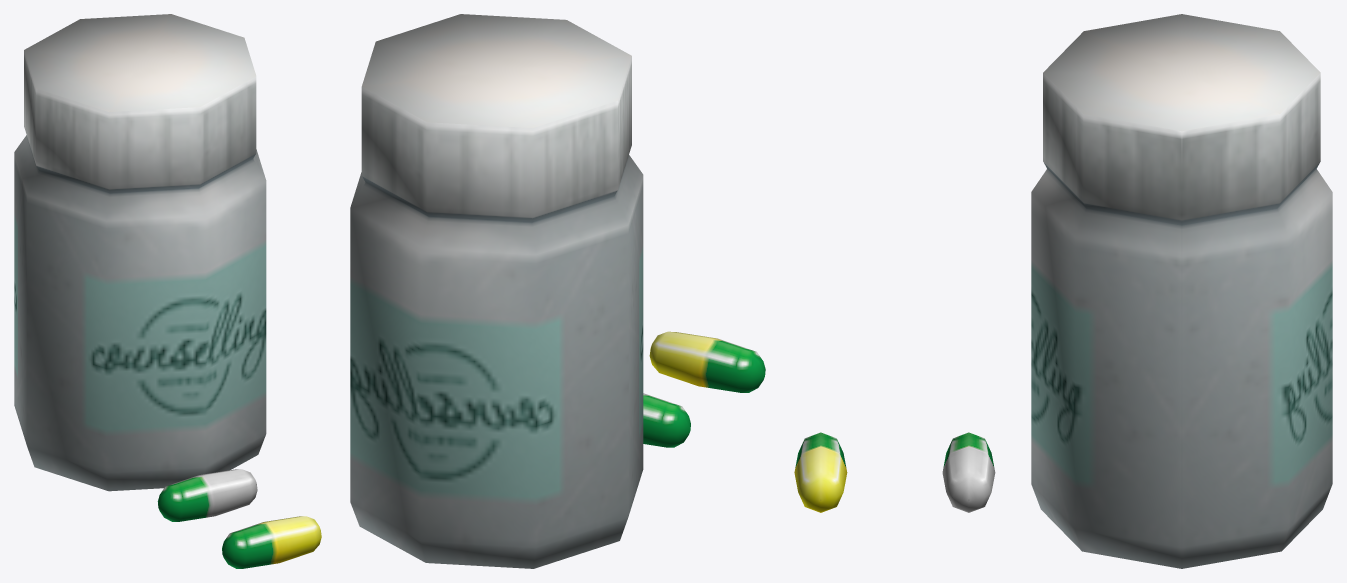
File: ShenMiRenJia_01_yaoping_01.FBX
The picture shows the model from 3 angles, left to right: view 1: azimuth 30°, elevation 25°; view 2: azimuth 150°, elevation 25°; view 3: azimuth 270°, elevation 25°; orthographic projection. The views are drawn at different scales.
Visible parts, largest first — view 1: ShenMiRenJia_01_yaoping_01; view 2: ShenMiRenJia_01_yaoping_01; view 3: ShenMiRenJia_01_yaoping_01.
Part boxes in pixels (x1=…): ShenMiRenJia_01_yaoping_01: x1=14, y1=14, x2=321, y2=568; ShenMiRenJia_01_yaoping_01: x1=350, y1=14, x2=765, y2=568; ShenMiRenJia_01_yaoping_01: x1=794, y1=14, x2=1332, y2=568.
Bounding box in the file's own units: 29.8 × 47.82 × 53.23.
